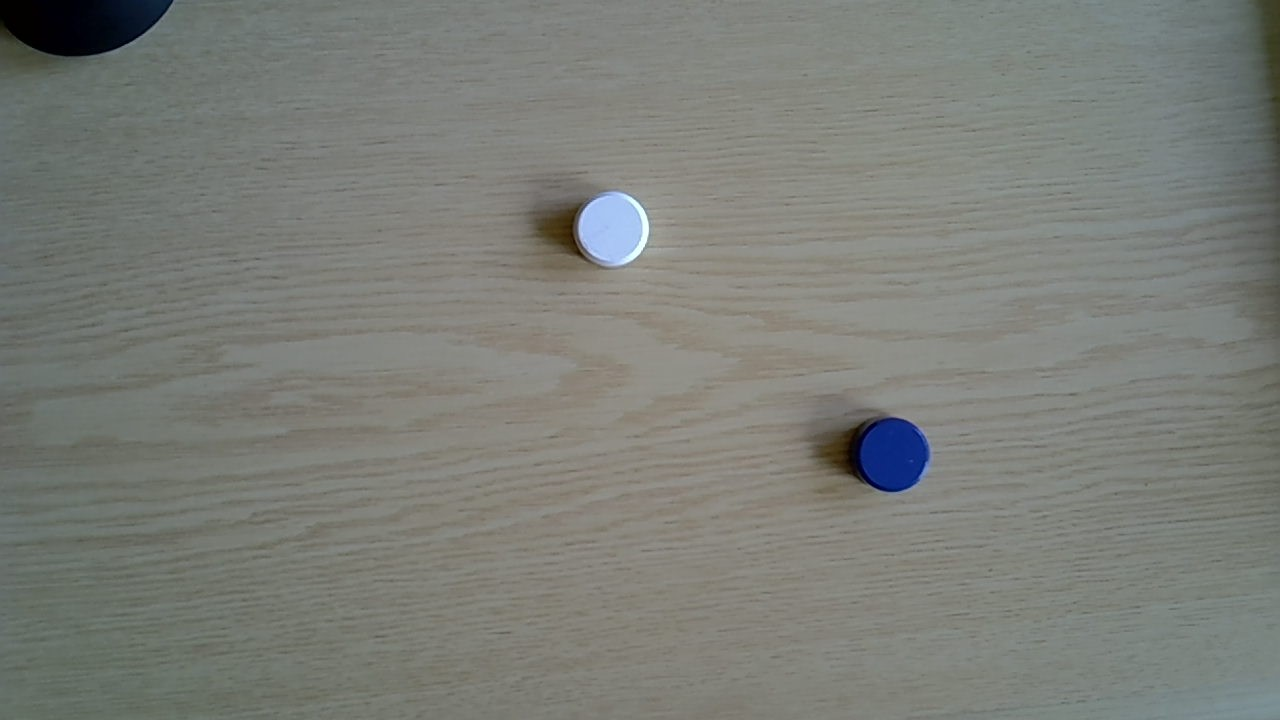WerkStueck: (846, 417, 933, 493), (572, 190, 652, 270)
